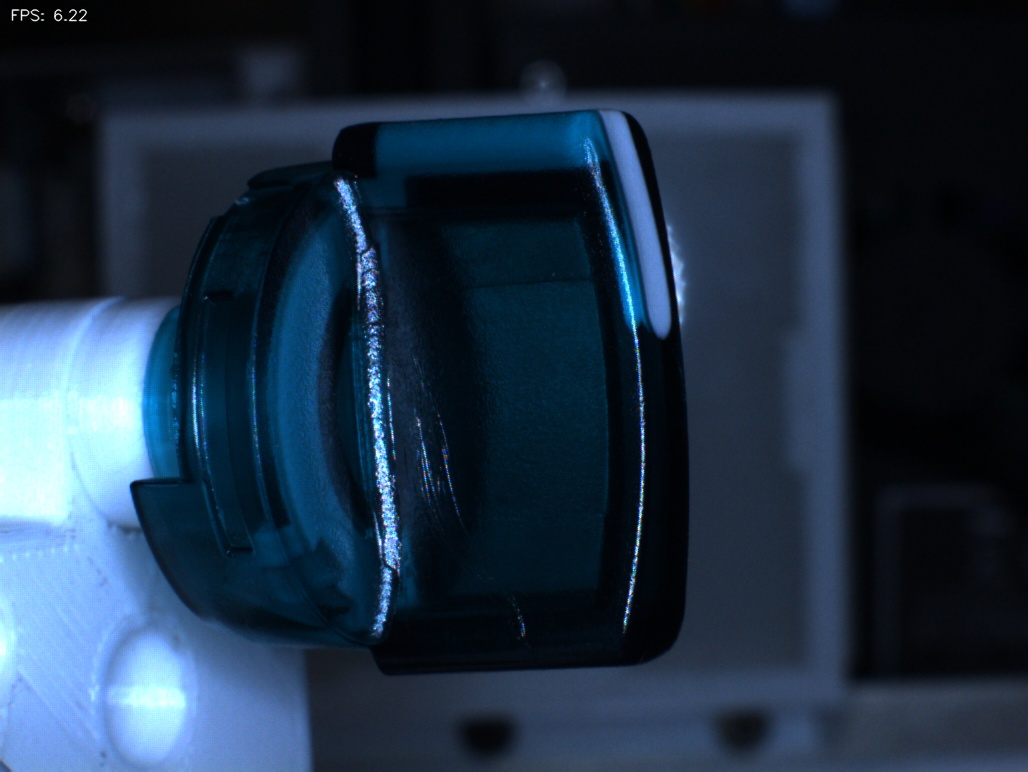Givrage: (398, 339, 484, 527), (434, 547, 540, 644)
